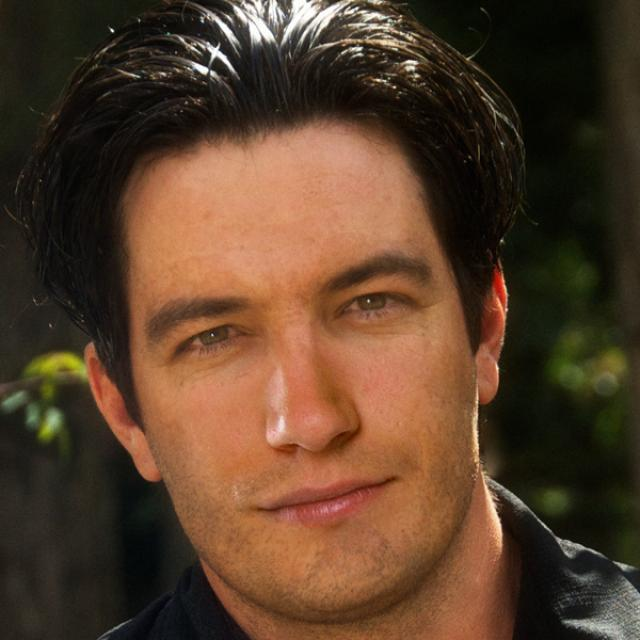face: (23, 15, 556, 618)
